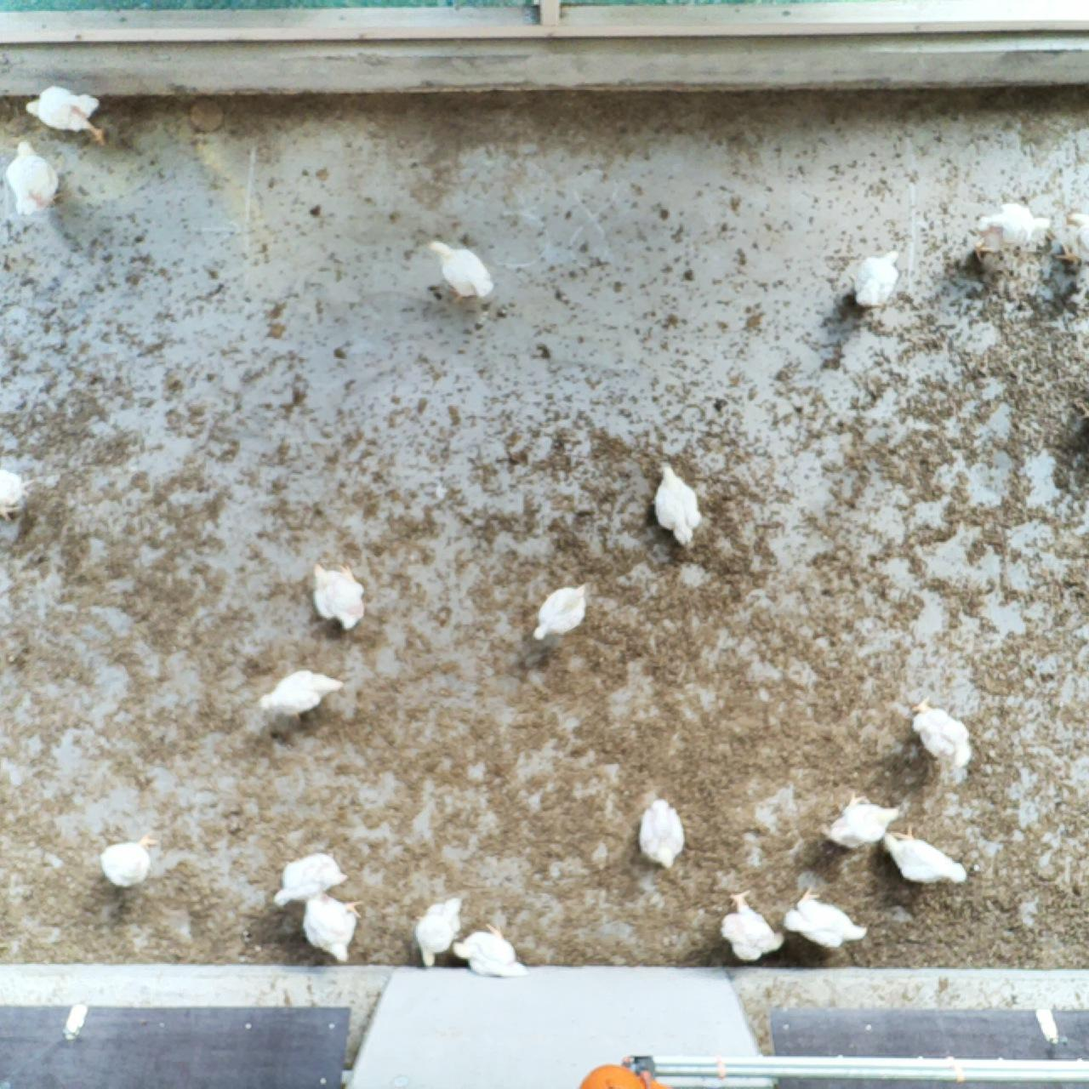chicken: (782, 879, 869, 948), (23, 82, 113, 147), (883, 825, 971, 890), (969, 198, 1054, 265), (716, 885, 785, 967), (647, 459, 704, 549), (823, 790, 907, 851), (906, 696, 973, 772), (273, 844, 352, 908), (450, 917, 530, 979), (255, 665, 345, 720), (301, 889, 364, 967), (423, 236, 496, 303), (305, 559, 365, 633), (635, 793, 690, 870), (411, 896, 467, 970), (846, 244, 906, 312), (531, 576, 588, 644), (98, 829, 161, 888), (1056, 206, 1089, 263), (0, 464, 30, 525)
